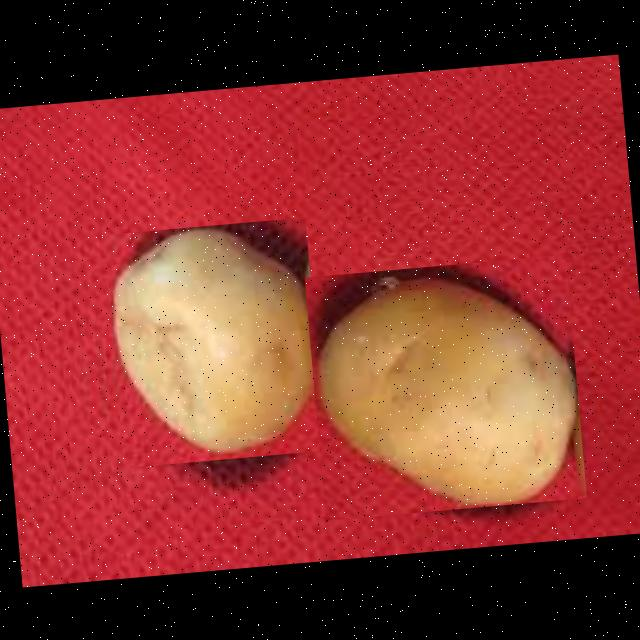Potato: (304, 254, 586, 520), (104, 217, 326, 468)
